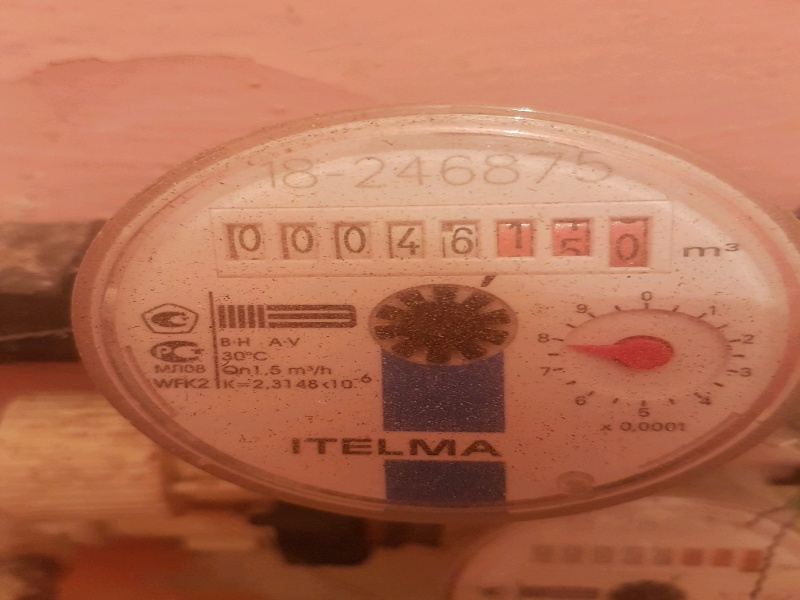meter: (228, 209, 659, 273)
